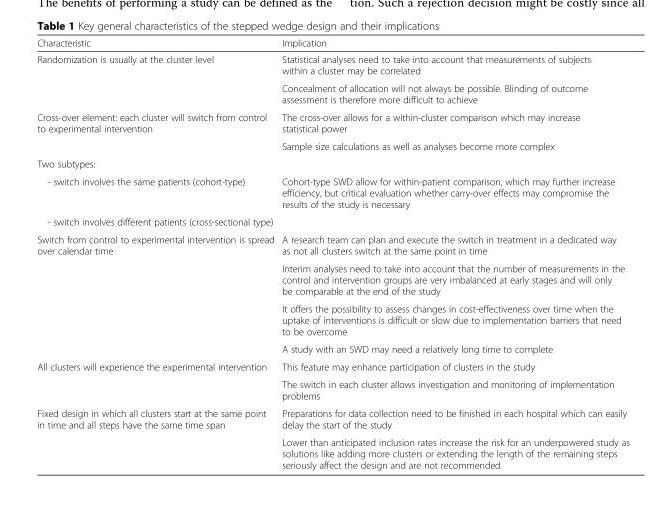table: (36, 36, 628, 470)
table column: (277, 36, 628, 470), (36, 36, 277, 470)
table column header: (36, 36, 628, 50)
table projected row header: (36, 154, 628, 172), (36, 212, 628, 230)
table row: (36, 172, 628, 212), (36, 259, 628, 299), (36, 299, 628, 339), (36, 433, 628, 470), (36, 50, 628, 79), (36, 79, 628, 108), (36, 108, 628, 137), (36, 230, 628, 259), (36, 375, 628, 404), (36, 404, 628, 433), (36, 154, 628, 172), (36, 212, 628, 230), (36, 339, 628, 357), (36, 357, 628, 375), (36, 137, 628, 154), (36, 36, 628, 50)
table spanning cell: (36, 230, 277, 357), (36, 404, 277, 470), (36, 50, 277, 108), (36, 357, 277, 404), (36, 108, 277, 154)
